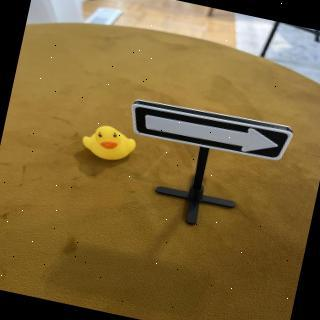duck_regular: (79, 121, 141, 169)
sign_oneway_right: (126, 98, 296, 169)
